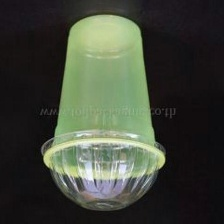glass: (36, 9, 179, 215)
